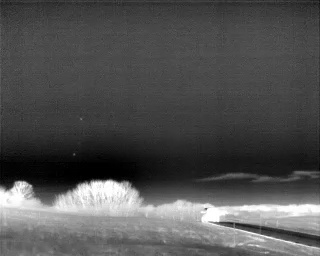BIRD: (78, 115, 85, 123)
